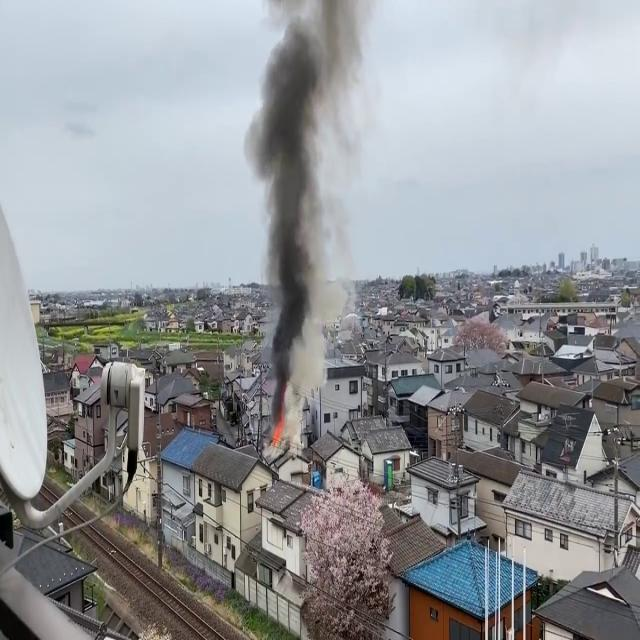Fire: (269, 412, 287, 450)
Smoke: (246, 0, 364, 415)
